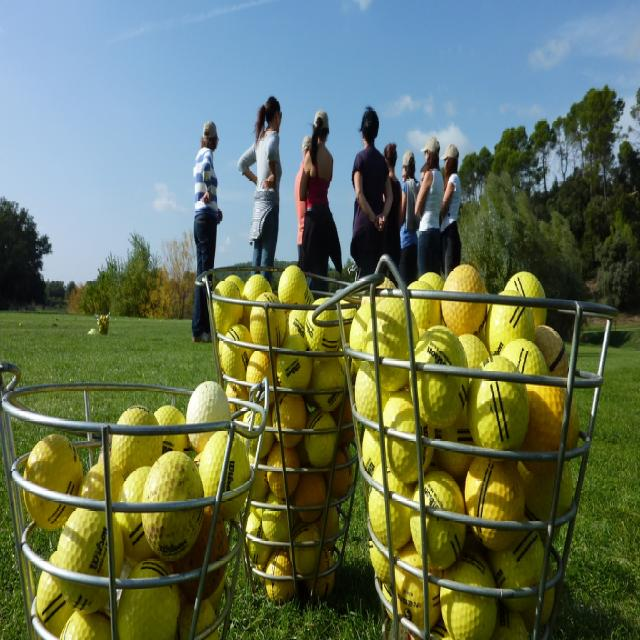Tennis ball: (22, 263, 577, 639)
